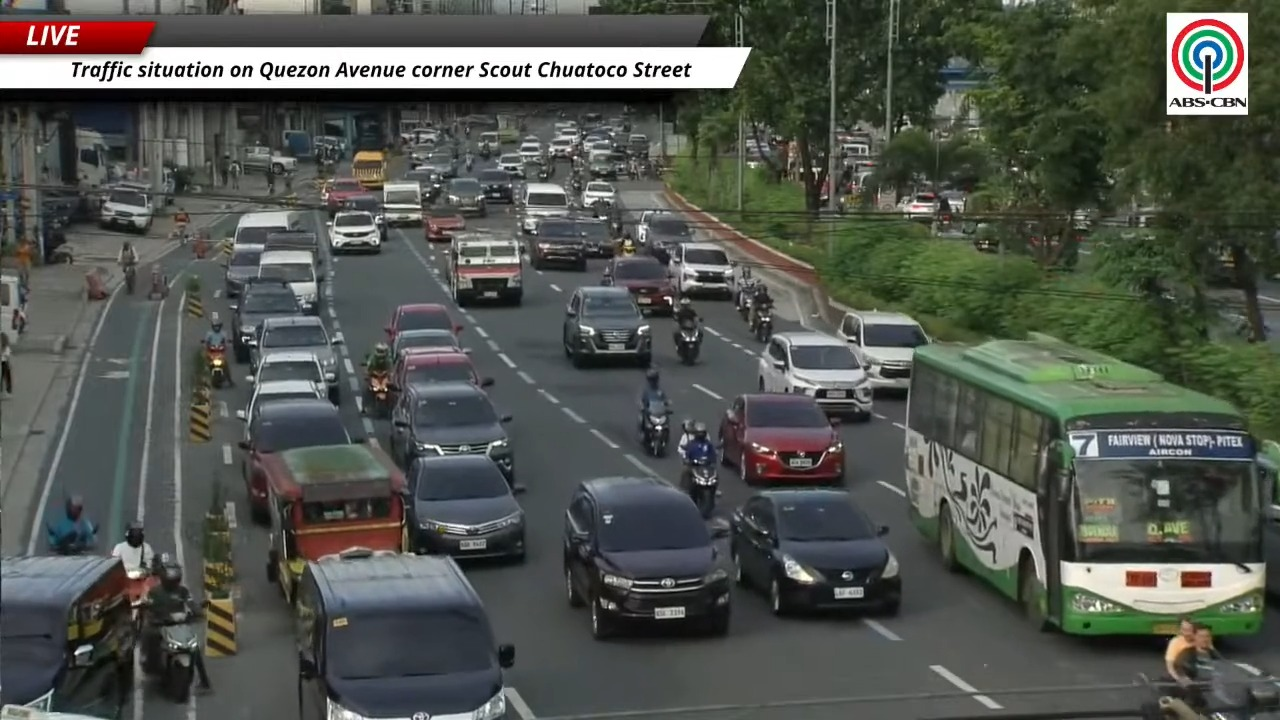bus: (905, 334, 1270, 634), (1259, 441, 1279, 566), (352, 150, 386, 189)
car: (288, 548, 513, 719), (563, 477, 730, 639), (0, 553, 138, 719), (730, 489, 901, 614), (239, 399, 352, 521), (390, 381, 515, 484), (406, 455, 525, 560), (718, 393, 844, 485), (758, 331, 872, 420), (250, 316, 342, 397), (836, 312, 930, 390), (562, 286, 652, 367), (230, 279, 303, 363), (390, 348, 493, 394), (604, 255, 675, 314), (236, 379, 326, 421), (670, 242, 734, 297), (246, 351, 327, 393), (527, 218, 586, 271), (385, 303, 462, 342), (639, 214, 695, 263), (519, 182, 572, 233), (99, 187, 154, 233), (340, 192, 388, 242), (327, 211, 381, 254), (224, 245, 264, 298), (391, 329, 463, 356), (637, 211, 692, 245), (444, 177, 486, 216), (323, 178, 367, 215), (241, 145, 297, 174), (575, 217, 615, 257), (424, 206, 465, 241), (476, 169, 513, 203), (417, 149, 457, 179), (404, 169, 441, 201), (901, 192, 939, 222), (582, 181, 616, 206), (407, 139, 439, 163), (588, 155, 618, 179), (497, 153, 524, 178), (549, 137, 575, 159), (627, 133, 649, 157), (588, 139, 612, 160), (518, 142, 542, 163), (477, 131, 501, 152), (610, 149, 629, 175), (556, 127, 581, 145), (522, 134, 539, 144)
motorcycle: (148, 611, 200, 703), (125, 569, 158, 632), (687, 460, 717, 518), (46, 521, 96, 555), (641, 408, 670, 458), (367, 372, 389, 417), (206, 344, 228, 388), (677, 325, 701, 365), (753, 306, 772, 342), (738, 292, 752, 321), (123, 263, 136, 294), (618, 242, 635, 256), (479, 143, 491, 160), (537, 165, 550, 180), (465, 155, 473, 171)
truck: (447, 231, 523, 306), (74, 127, 110, 188), (241, 145, 297, 174)
